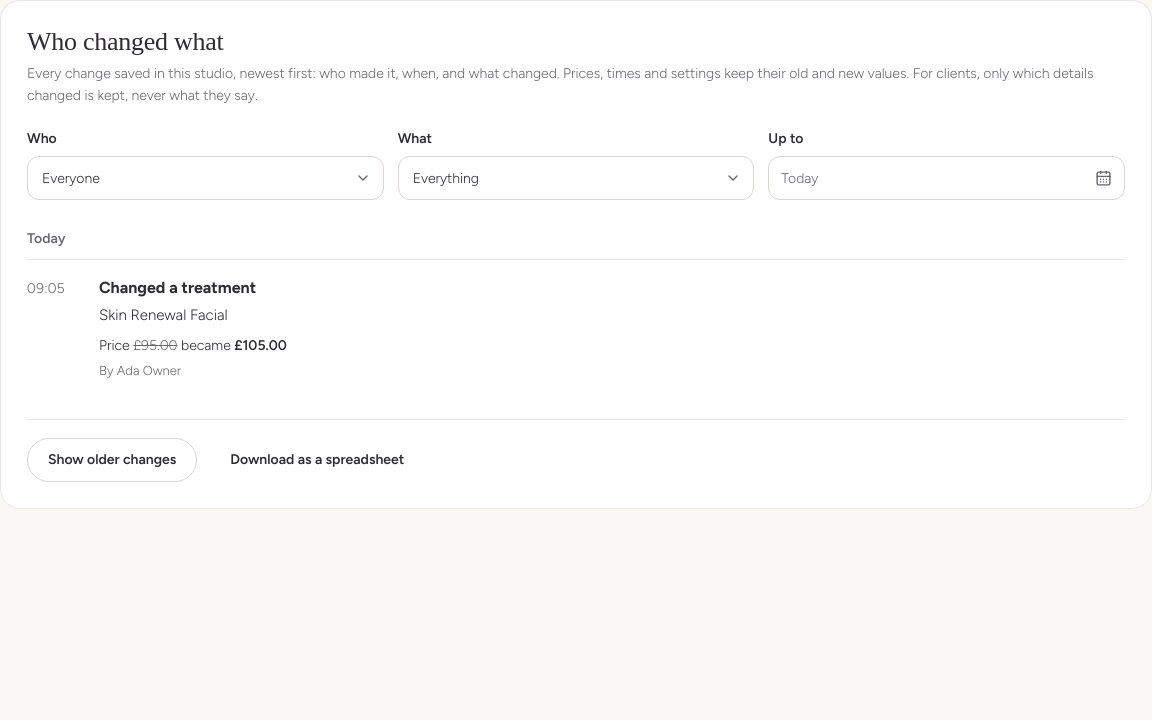
Scenario: drops an older page that arrives after the filter changed
Click the button "Show older changes".
click(112, 460)  # box [27,438,197,482]
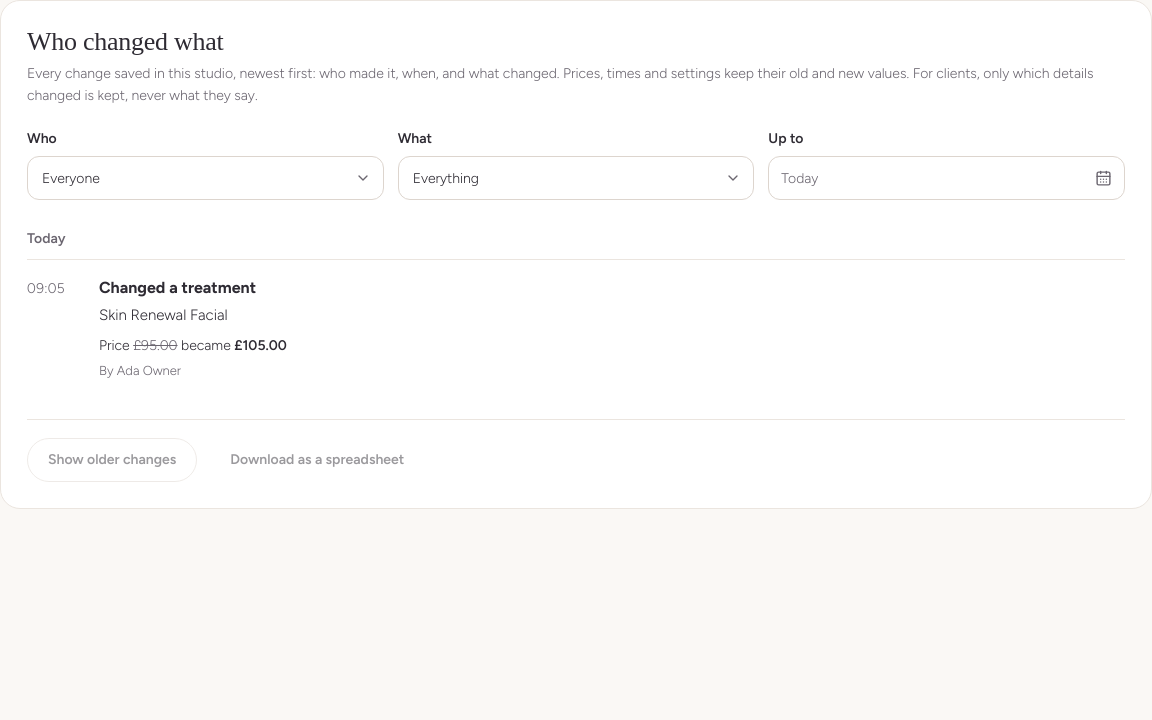
Click the dropdown named "Who".
click(71, 178)  # box [27,156,384,200]
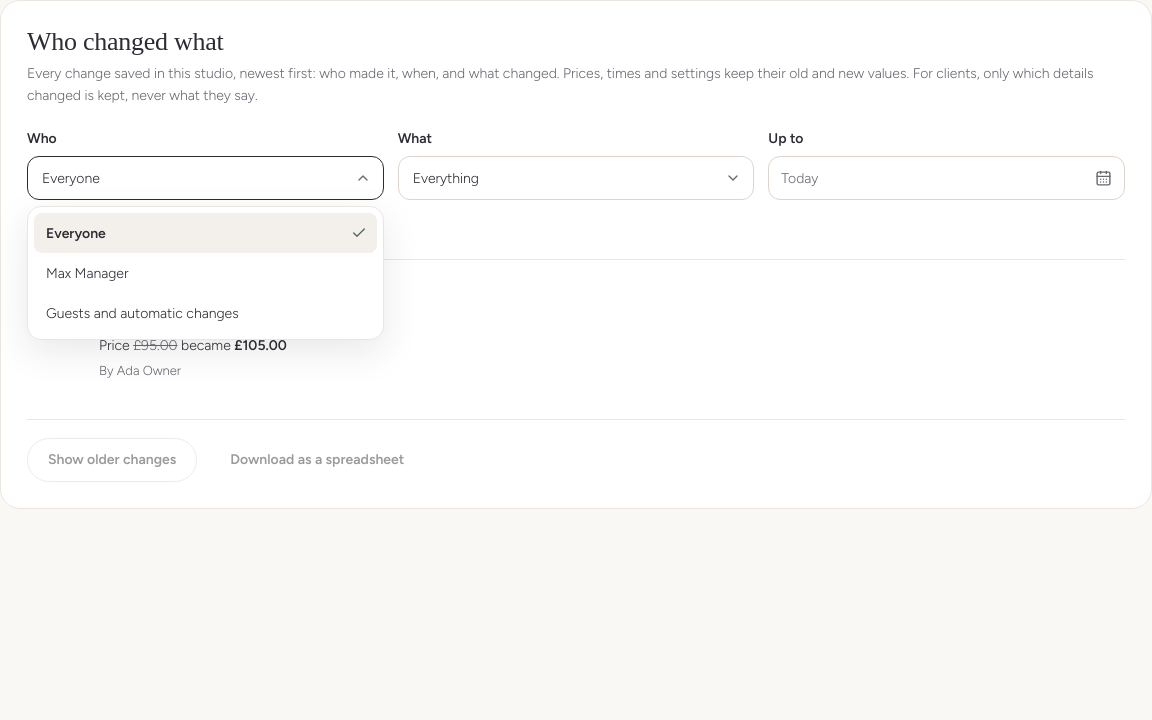
Click the option "Max Manager".
click(87, 273)  # box [46,264,128,282]
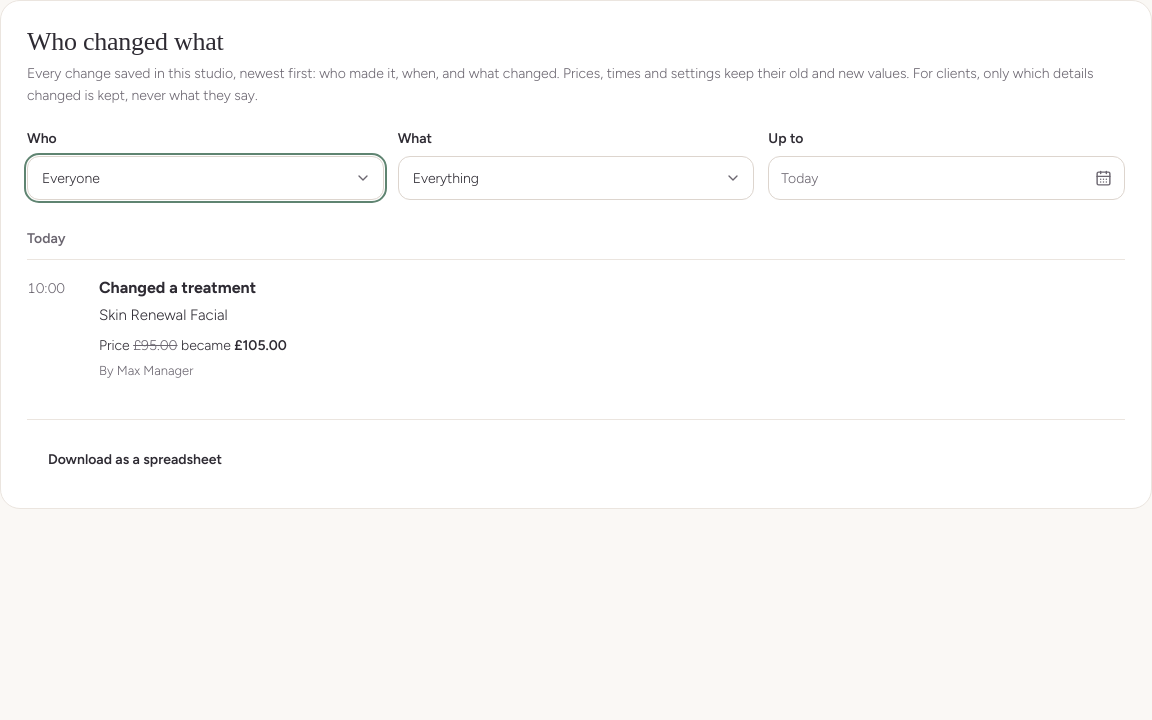
Expected: the text "By Ada Owner" is gone
Expected: the text "By Max Manager" is shown, [99,363,193,378]
